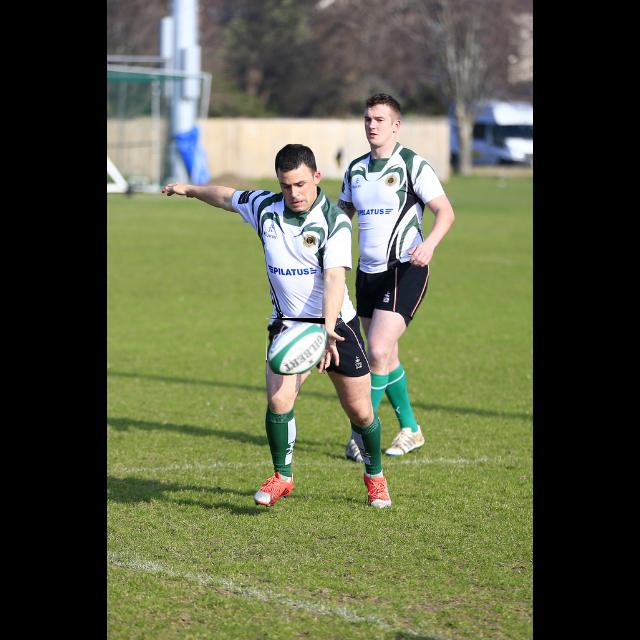Football: (267, 318, 325, 374)
